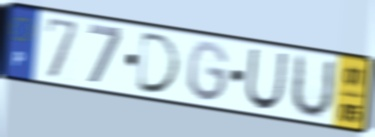7: (86, 21, 126, 88), (45, 15, 80, 83)
D: (134, 30, 183, 96)
G: (186, 38, 232, 105)
U: (287, 51, 337, 121), (243, 46, 290, 112)
